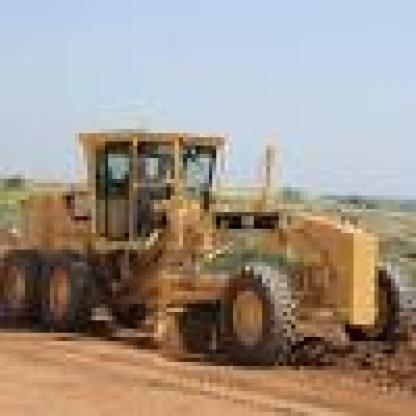bull_dozer/loader/grader: (0, 79, 412, 379)
